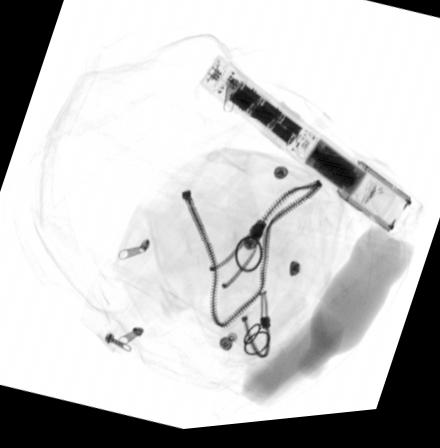Baton: (194, 55, 411, 243)
